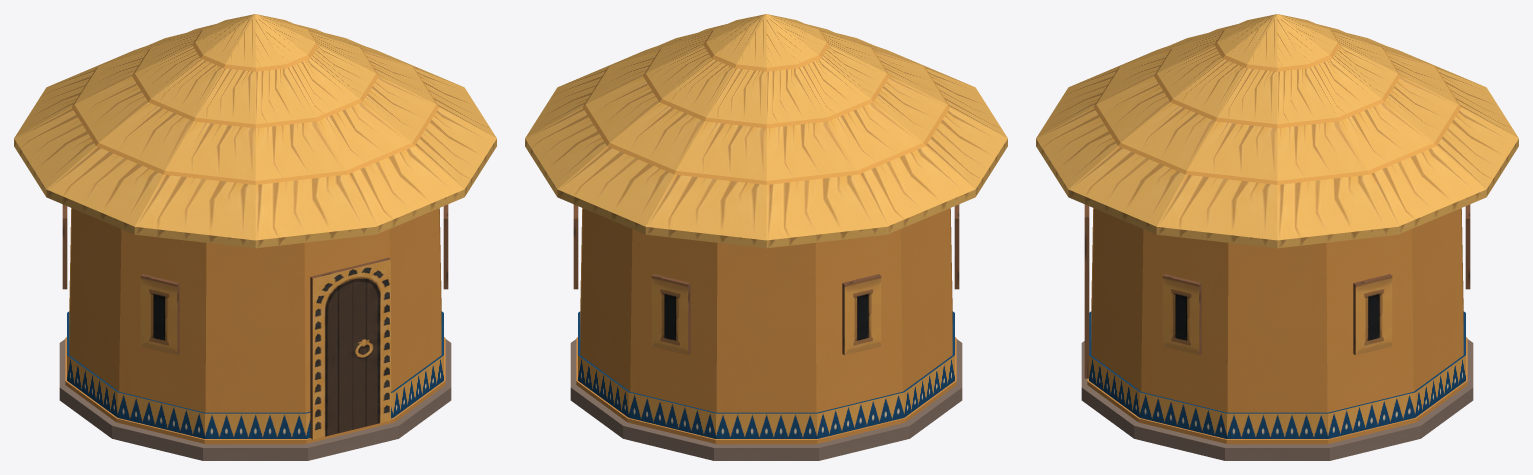
Rendered from SM_RC_MudHut_Round_1F.gltf.
3 renders of one model, left to right at view 1: azimuth 30°, elevation 25°; view 2: azimuth 150°, elevation 25°; view 3: azimuth 270°, elevation 25°, orthographic.
Visible parts, largest first — view 1: SM_RC_WA_MudHut_Round_1F_RoofFixed; view 2: SM_RC_WA_MudHut_Round_1F_RoofFixed; view 3: SM_RC_WA_MudHut_Round_1F_RoofFixed.
Part boxes in pixels (<box>): SM_RC_WA_MudHut_Round_1F_RoofFixed: <box>14,14,496,460</box>; SM_RC_WA_MudHut_Round_1F_RoofFixed: <box>525,14,1007,460</box>; SM_RC_WA_MudHut_Round_1F_RoofFixed: <box>1036,14,1518,460</box>.
Bounding box in the file's own units: 7.74 × 6.44 × 7.74.
Materials: 1 (1 with a texture image).
